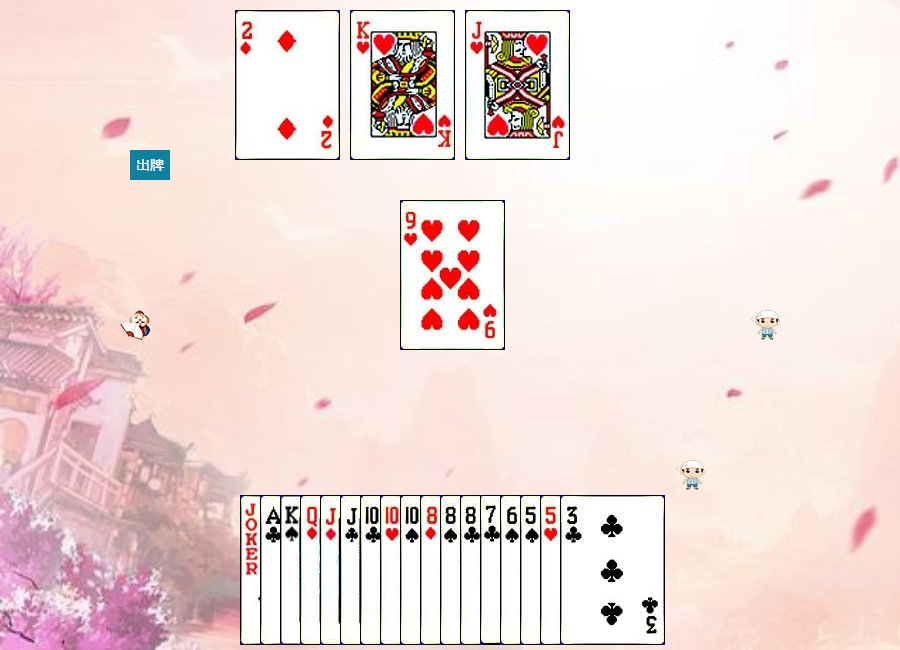10~2: (360, 495, 465, 645)
10~3: (380, 495, 485, 645)
10~4: (400, 495, 505, 645)
11~1: (320, 495, 425, 645)
11~2: (340, 495, 445, 645)
11~3: (465, 10, 570, 160)
12~1: (300, 495, 405, 645)
13~3: (350, 10, 455, 160)
13~4: (280, 495, 385, 645)
14~2: (260, 495, 365, 645)
15~1: (235, 10, 340, 160)
18~4: (240, 495, 345, 645)
3~2: (560, 495, 665, 645)
5~3: (540, 495, 645, 645)
5~4: (520, 495, 625, 645)
6~4: (500, 495, 605, 645)
7~2: (480, 495, 585, 645)
8~1: (420, 495, 525, 645)
8~2: (460, 495, 565, 645)
8~4: (440, 495, 545, 645)
9~3: (400, 200, 505, 350)
